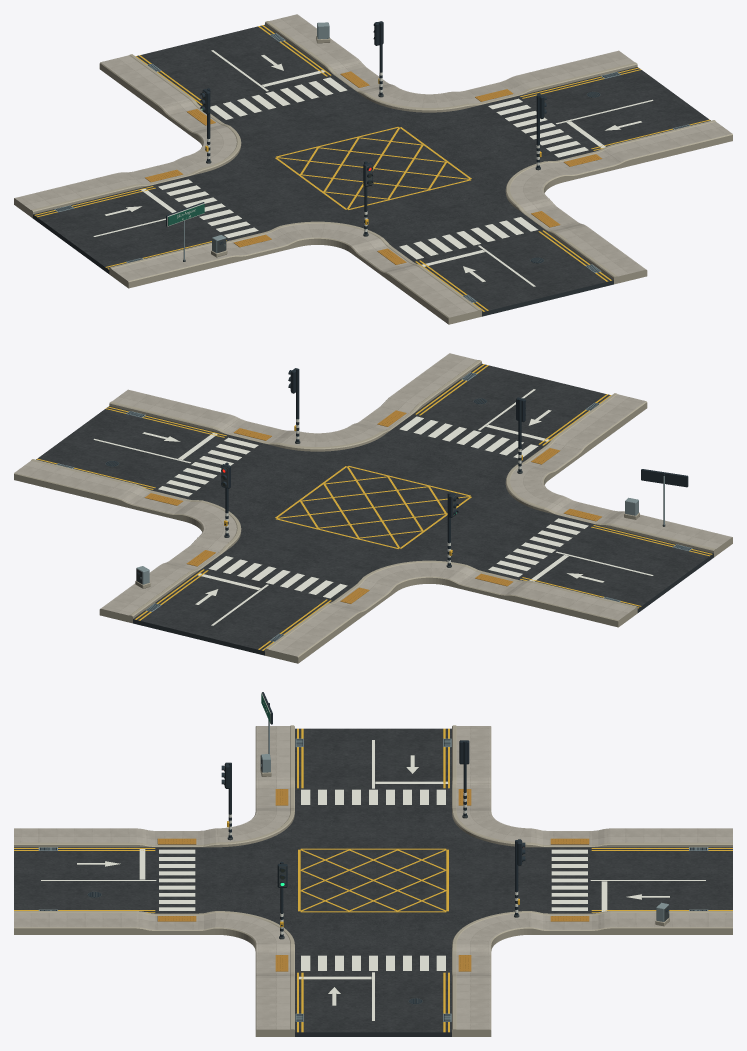
The picture shows the model from 3 angles, top to bottom: view 1: azimuth 30°, elevation 25°; view 2: azimuth 150°, elevation 25°; view 3: azimuth 270°, elevation 25°; orthographic projection. The views are drawn at different scales.
Parts seen in each view (by area): view 1: Road Deck, Kerbs and Footways, Road Markings, Pedestrian Markings, Signals and Push Buttons, Tactile Paving, Drainage and Utility Covers, Signal Control Cabinets, Local Street Signs; view 2: Road Deck, Kerbs and Footways, Road Markings, Pedestrian Markings, Signals and Push Buttons, Tactile Paving, Drainage and Utility Covers, Local Street Signs, Signal Control Cabinets; view 3: Road Deck, Kerbs and Footways, Road Markings, Pedestrian Markings, Tactile Paving, Signals and Push Buttons, Drainage and Utility Covers.
Part boxes in pixels (x1,y1,x2,y2): Road Deck: [33, 24, 710, 316]; Kerbs and Footways: [14, 14, 732, 324]; Road Markings: [34, 25, 710, 311]; Pedestrian Markings: [158, 77, 588, 259]; Signals and Push Buttons: [200, 21, 546, 236]; Tactile Paving: [145, 71, 602, 264]; Drainage and Utility Covers: [54, 33, 690, 302]; Signal Control Cabinets: [211, 22, 330, 257]; Local Street Signs: [166, 202, 204, 261]; Road Deck: [36, 363, 713, 655]; Kerbs and Footways: [14, 353, 732, 663]; Road Markings: [36, 364, 712, 650]; Pedestrian Markings: [158, 416, 588, 598]; Signals and Push Buttons: [221, 368, 525, 567]; Tactile Paving: [144, 410, 601, 603]; Drainage and Utility Covers: [56, 372, 692, 641]; Local Street Signs: [641, 469, 688, 526]; Signal Control Cabinets: [135, 497, 639, 588]; Road Deck: [14, 728, 732, 1036]; Kerbs and Footways: [14, 725, 732, 1036]; Road Markings: [14, 728, 732, 1032]; Pedestrian Markings: [159, 789, 587, 970]; Tactile Paving: [157, 789, 589, 971]; Signals and Push Buttons: [221, 740, 525, 939]; Drainage and Utility Covers: [38, 738, 708, 1021].
Size of the model in its own units: 32 by 4.07 by 32.
Materials: 16 (2 with a texture image).
